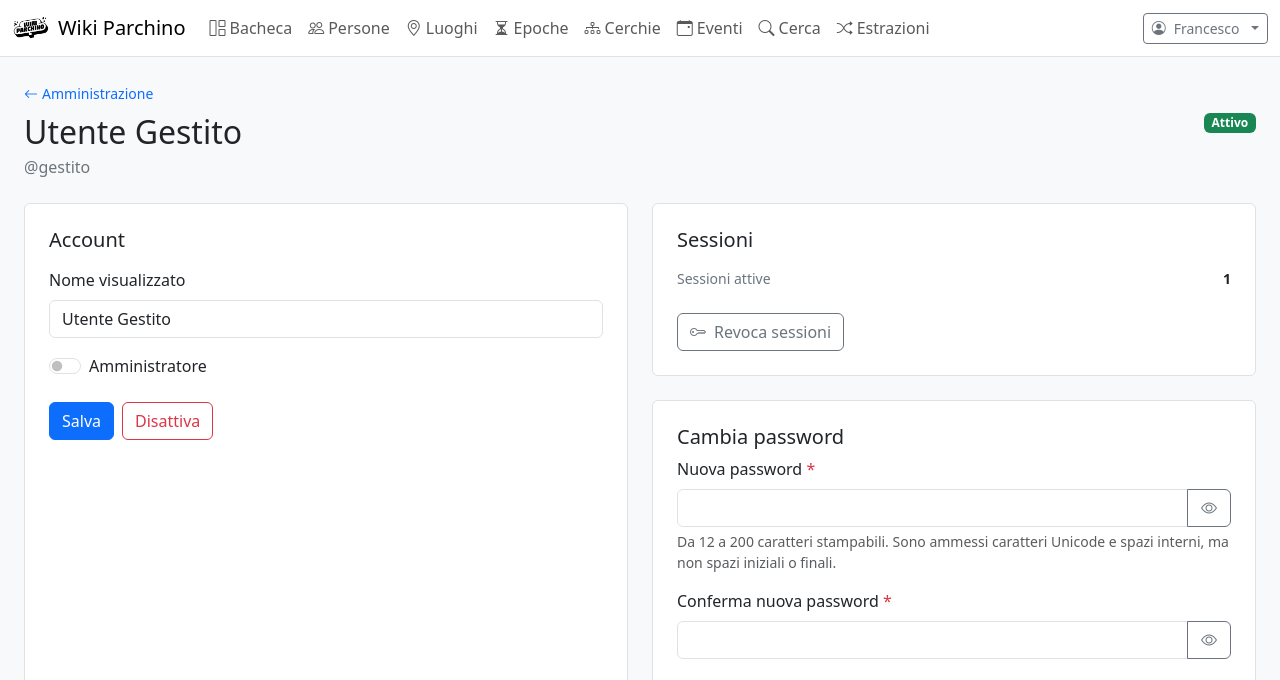
Test: App › preserves admin password feedback and content when the detail refresh fails
Expected: the heading "Utente Gestito" is shown, [24,113,242,151]
In the password field labelled "Nuova password *": (932, 508) [677,489,1188,527], type "password-nuova-sicura"
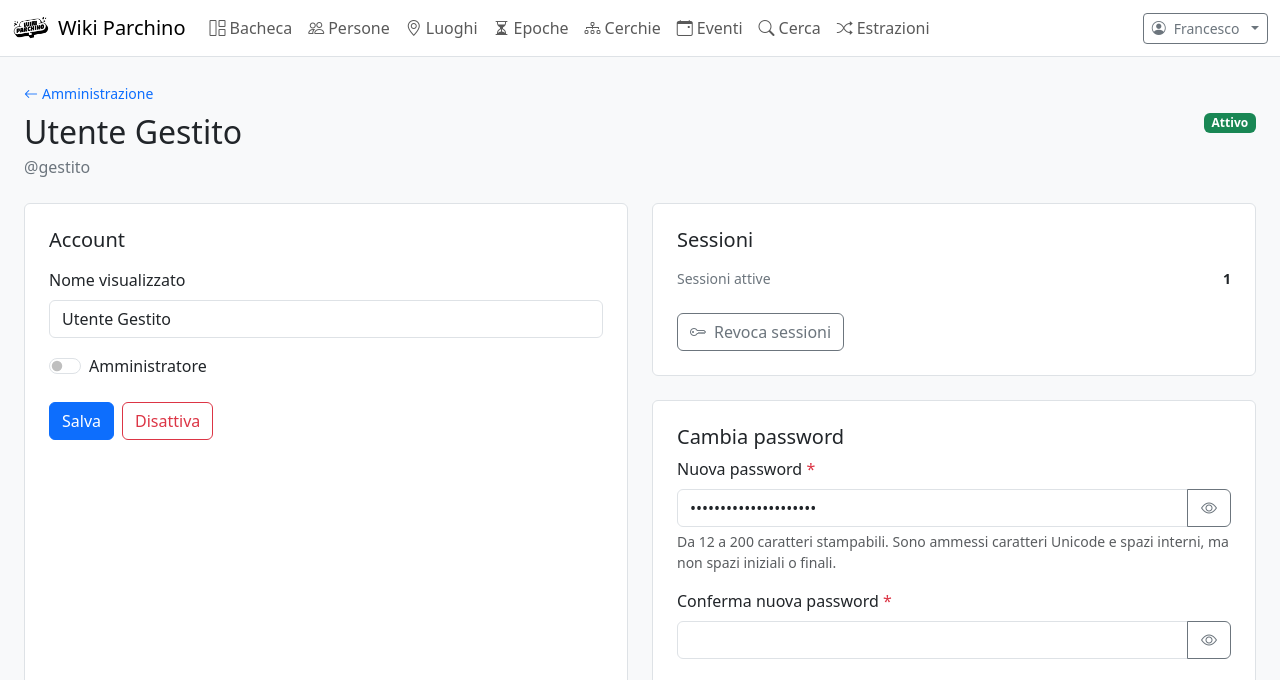
In the password field labelled "Conferma nuova password *": (932, 640) [677,621,1188,659], type "password-nuova-sicura"
(page scrolled)
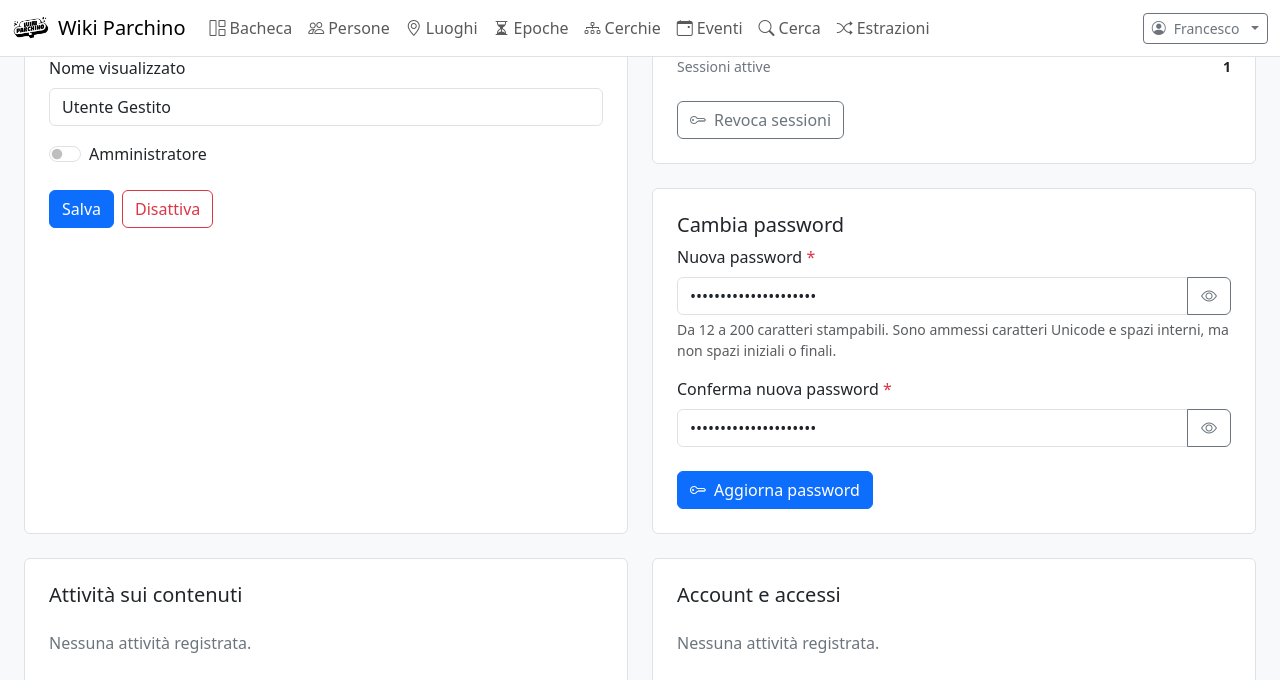
Click the button "Aggiorna password": (775, 490) [677,471,873,509]
(page scrolled)
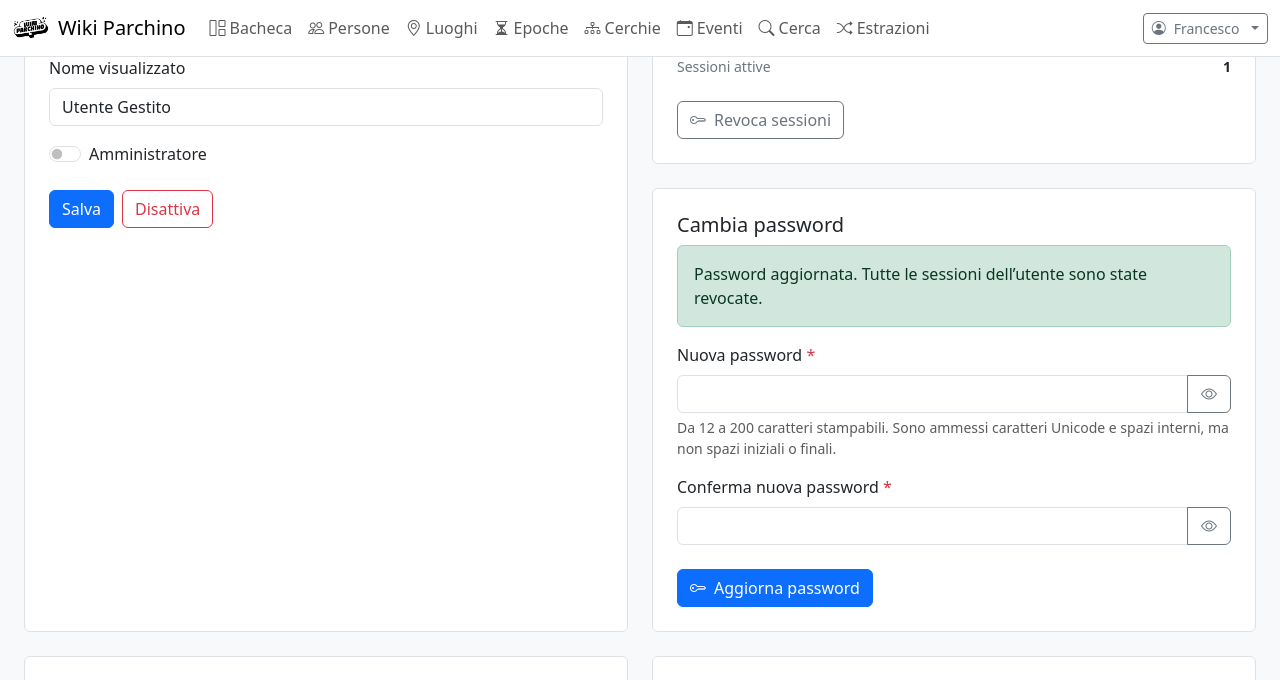
Result: the message shows "Password aggiornata" at [694,263,1147,309]
